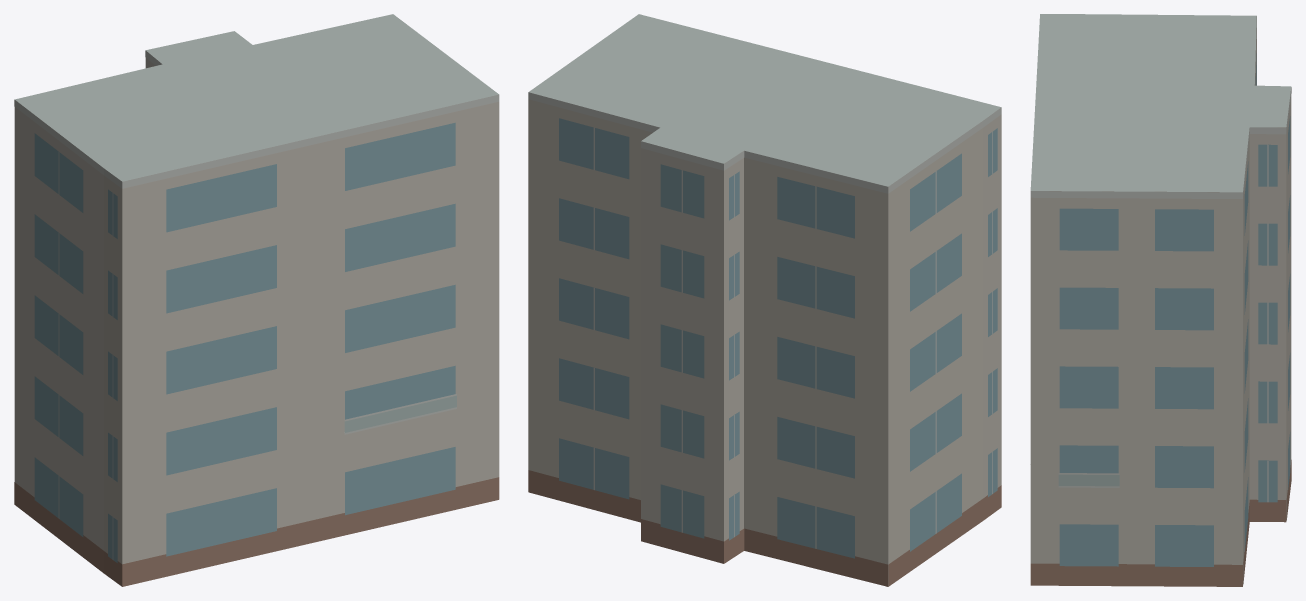
File: survey-upis-32772422.glb
The picture shows the model from 3 angles, left to right: view 1: azimuth 30°, elevation 25°; view 2: azimuth 150°, elevation 25°; view 3: azimuth 270°, elevation 25°; orthographic projection. The views are drawn at different scales.
Visible parts, largest first — view 1: survey-upis-32772422.tmp; view 2: survey-upis-32772422.tmp; view 3: survey-upis-32772422.tmp.
Part boxes in pixels (x1,y1,x2,y2): survey-upis-32772422.tmp: (14,14,499,586); survey-upis-32772422.tmp: (528,14,1001,586); survey-upis-32772422.tmp: (1030,14,1291,586).
Size of the model in its own units: 13.58 by 14 by 8.4.
